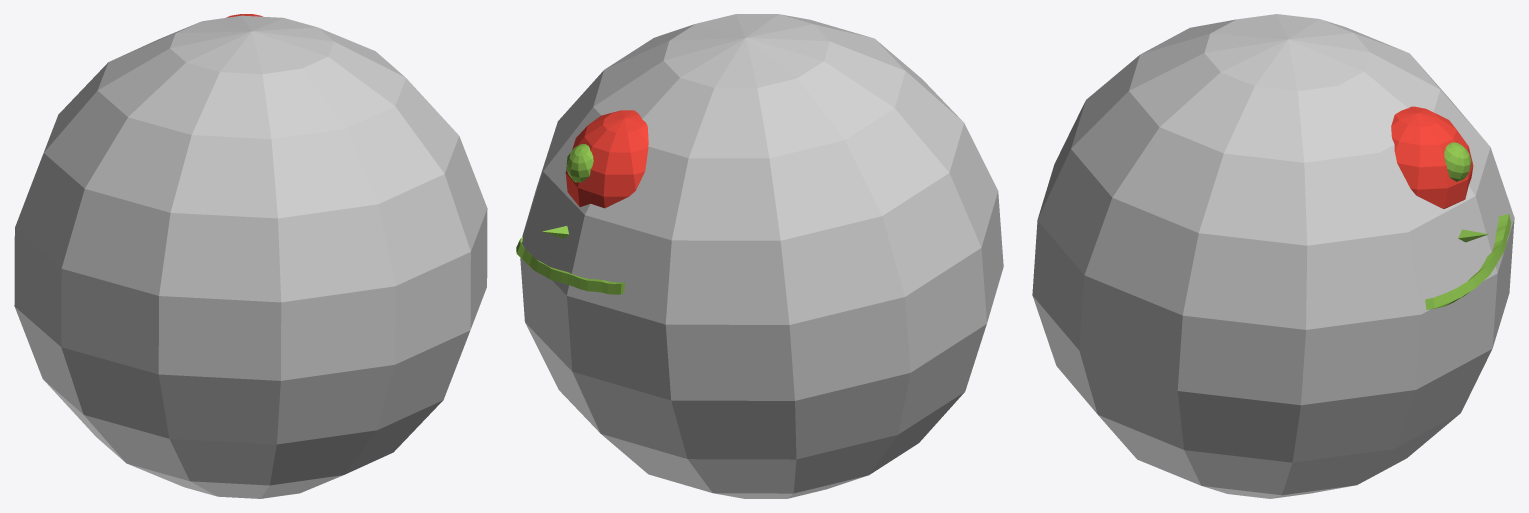
3 renders of one model, left to right at view 1: azimuth 30°, elevation 25°; view 2: azimuth 150°, elevation 25°; view 3: azimuth 270°, elevation 25°, orthographic.
Parts seen in each view (by area): view 1: mesh_1622195070; view 2: mesh_1622195070, mesh_1596908931, group_1036527501, mesh_248640117; view 3: mesh_1622195070, mesh_1596908931, group_1036527501, mesh_248640117.
Boxes of the visible parts, left/top/right/bottom form: mesh_1622195070: left=14, top=15, right=487, bottom=498; mesh_1622195070: left=520, top=14, right=1003, bottom=498; mesh_1596908931: left=565, top=110, right=648, bottom=208; group_1036527501: left=516, top=237, right=624, bottom=294; mesh_248640117: left=566, top=144, right=593, bottom=182; mesh_1622195070: left=1032, top=14, right=1514, bottom=498; mesh_1596908931: left=1391, top=106, right=1473, bottom=208; group_1036527501: left=1425, top=213, right=1511, bottom=309; mesh_248640117: left=1444, top=142, right=1471, bottom=181.
Size of the model in its own units: 222 by 225 by 223.
